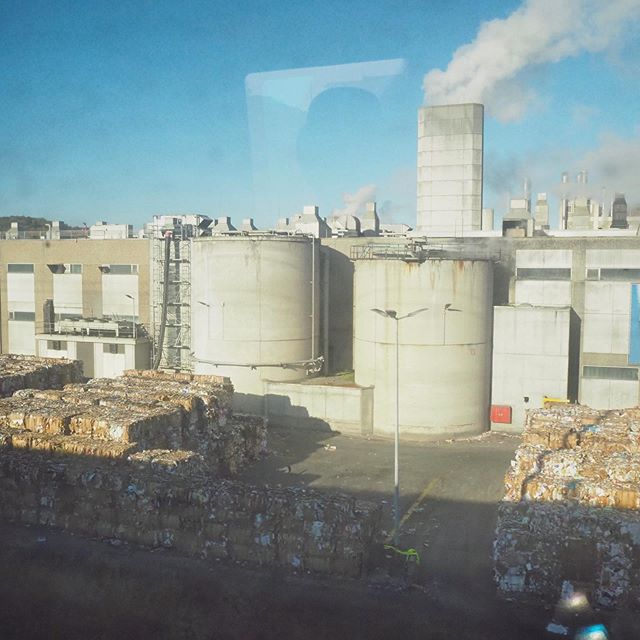building: (1, 187, 635, 407), (412, 103, 500, 231)
sky: (1, 1, 629, 204)
trash: (4, 360, 417, 579), (492, 402, 640, 605)
